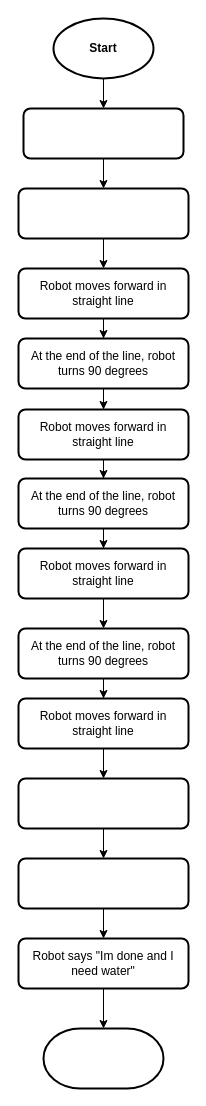
This 206x1106 diagram has some shape labels left out. Here are the shapes that lost their labels. From the top down, the centre of each, then its label:
the point at 103,133: Robot changes light color to green
the point at 103,213: Roboot speaks "Ready, Set, Go"
the point at 103,803: Robot stops at starting location
the point at 103,883: Robot Emits a red light
the point at 103,1058: End
